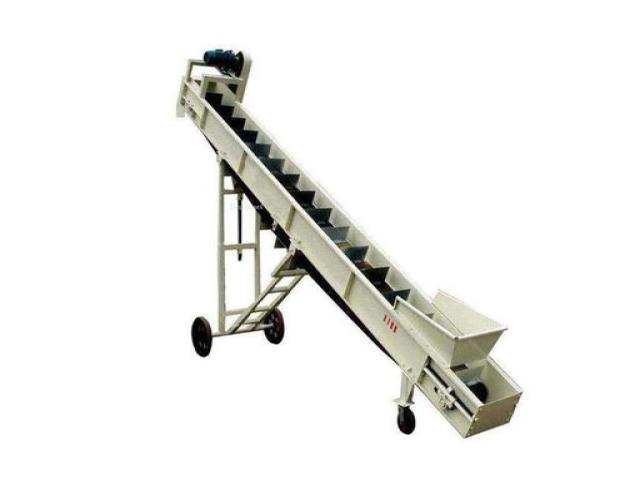conveyor: (171, 46, 525, 440)
